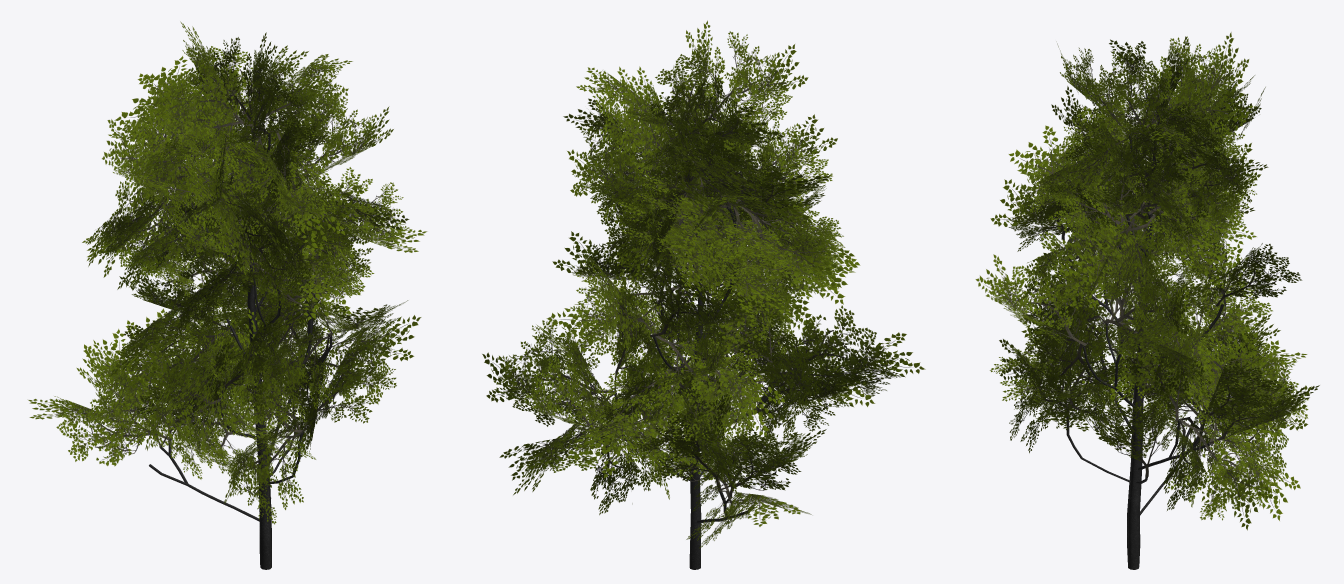
File: tree4.glb
3 views of the same model, side by side, from view 1: azimuth 30°, elevation 25°; view 2: azimuth 150°, elevation 25°; view 3: azimuth 270°, elevation 25° (orthographic).
Parts seen in each view (by area): view 1: DeciduousShrub2; view 2: DeciduousShrub2; view 3: DeciduousShrub2.
Boxes of the visible parts, x1,y1,x2,y2 form: DeciduousShrub2: (28, 21, 427, 569); DeciduousShrub2: (482, 20, 925, 569); DeciduousShrub2: (975, 32, 1319, 569).
Size of the model in its own units: 10.87 by 14.81 by 9.14.
Materials: 2 (2 with a texture image).
